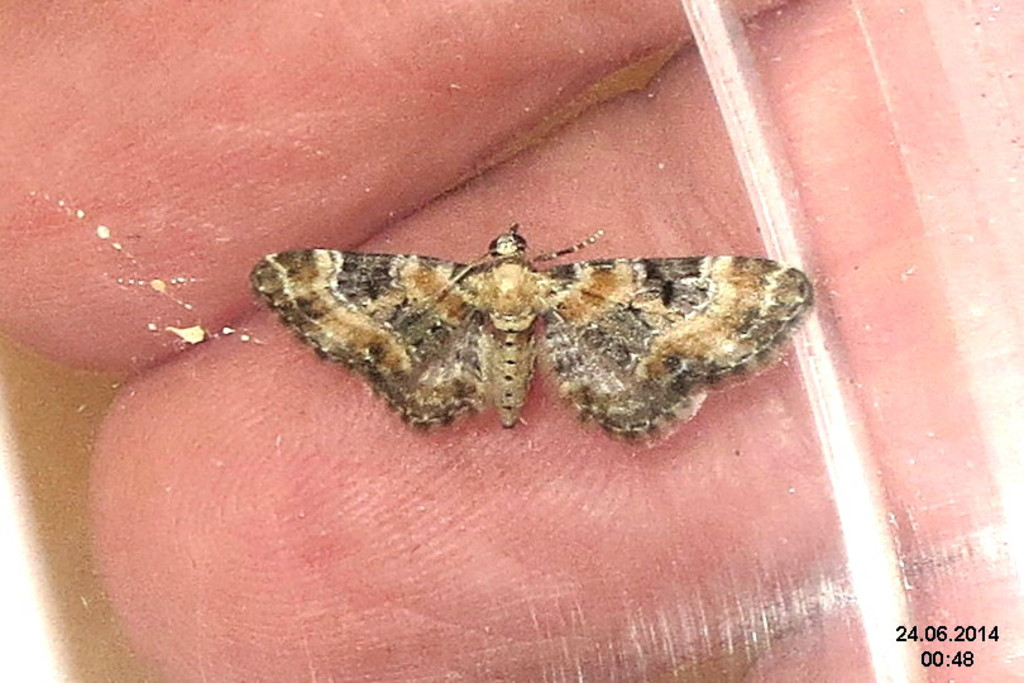Butterfly: (241, 217, 872, 458)
